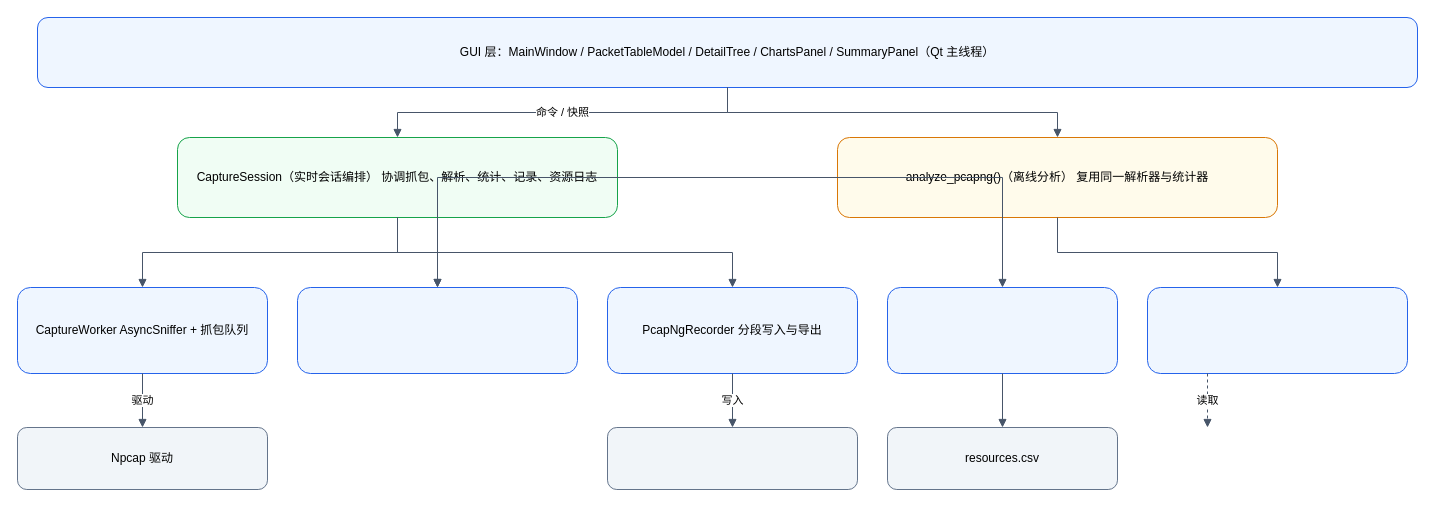
The diagram is 1435 pixels wide and 507 high, and some of its shapes have lost their labels. The centre of each missing label's shape, as x and y in pixels:
pcapng 分段 + session.json: pixel 732 458
read_capture() 流式回读 pcap/pcapng: pixel 1277 330
ResourceLogger 10 秒资源采样: pixel 1002 330
解析与统计核心 parse_packet / StatsAggregator: pixel 437 330
